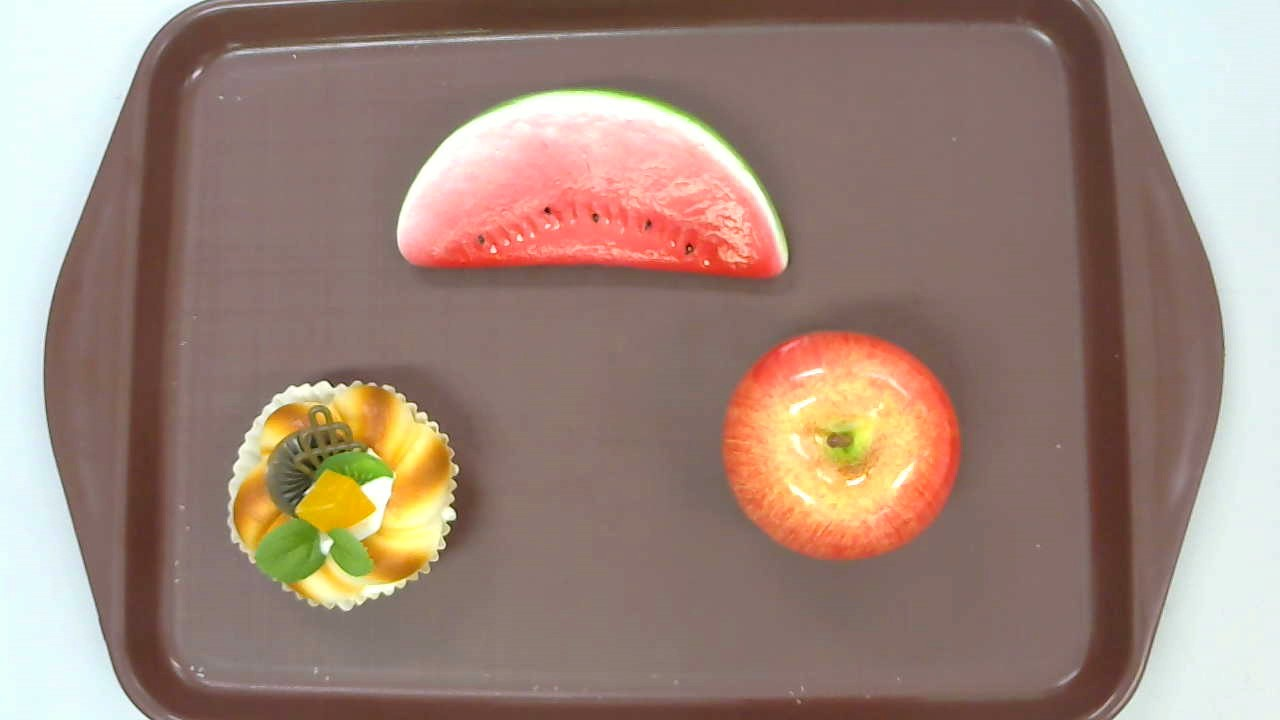fruit tart: (226, 378, 460, 611)
red apple: (722, 329, 962, 559)
water melon: (395, 87, 790, 281)
